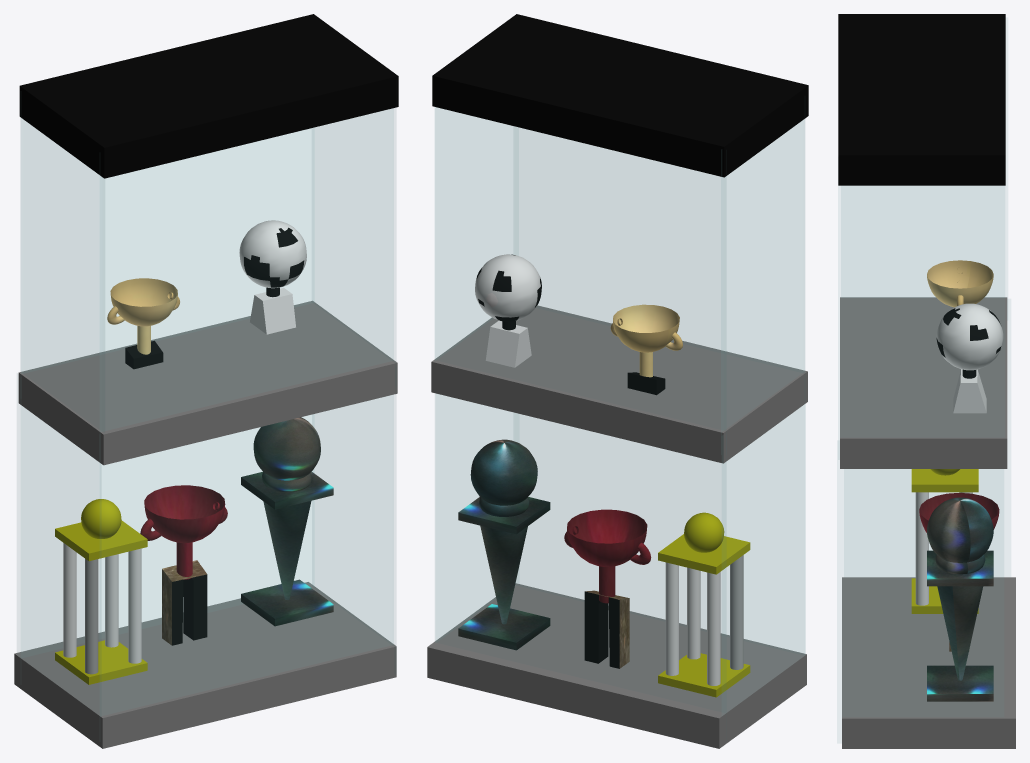
Rendered from TrophyDisplayCase.fbx.
3 renders of one model, left to right at view 1: azimuth 30°, elevation 25°; view 2: azimuth 150°, elevation 25°; view 3: azimuth 270°, elevation 25°, orthographic.
Visible parts, largest first — view 1: TrophyCasewithTrophiesMesh; view 2: TrophyCasewithTrophiesMesh; view 3: TrophyCasewithTrophiesMesh.
Part boxes in pixels (x1=…): TrophyCasewithTrophiesMesh: x1=14, y1=14, x2=398, y2=748; TrophyCasewithTrophiesMesh: x1=427, y1=14, x2=808, y2=748; TrophyCasewithTrophiesMesh: x1=838, y1=14, x2=1015, y2=748.
Bounding box in the file's own units: 10.02 × 19.57 × 5.34.
